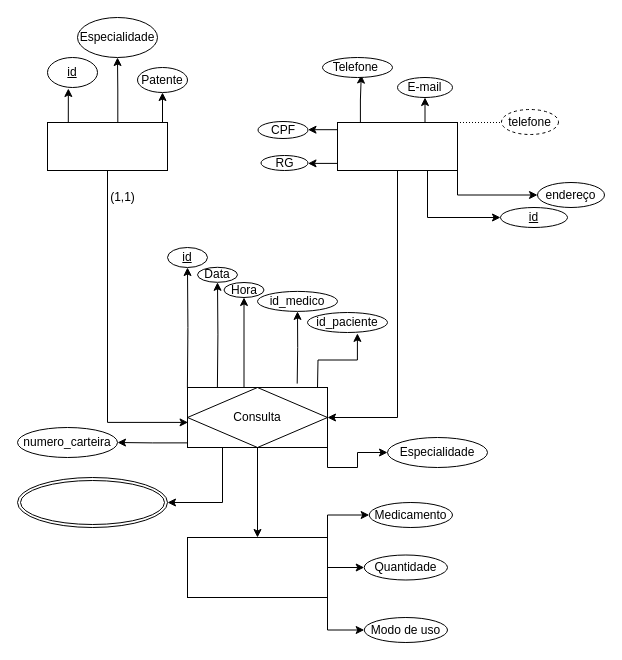
This 622x660 diagram has some shape labels left out. The shapes that lost their labels are listed below. From the top down, each one's centre as x and y in pixels, then its label:
(107,146): Medico
(397,146): Paciente
(92,502): convenio_valor_consulta
(257,567): Receita
